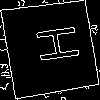H: (25, 23, 81, 67)
